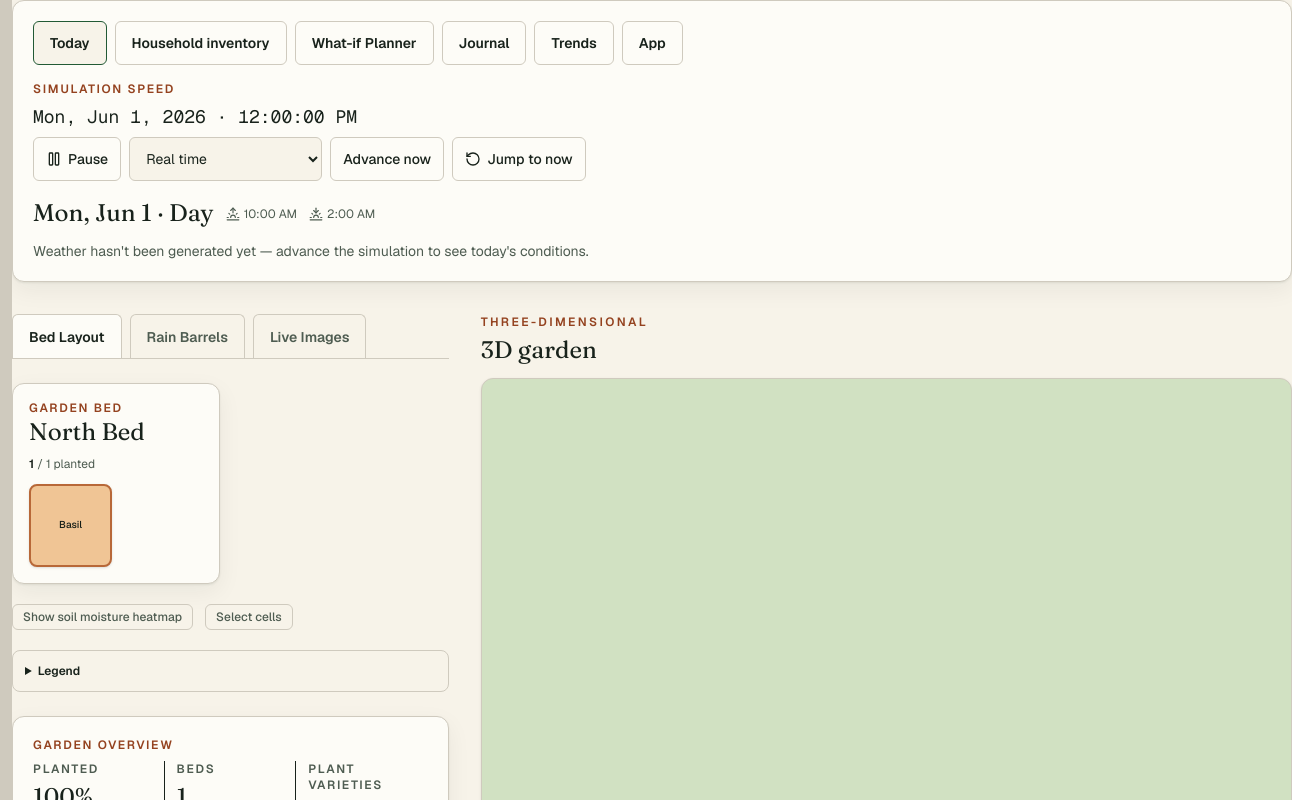
Test: SPEC-PLANTUI-001 › T-SPEC-PLANTUI-001-AC-AC_4: a HARVESTED cell offers only clear/remove actions, never a direct replace-plant action
Click the button with aria-label "column 0, row 0" at (71, 526), box [29,484,112,567]
(page scrolled)
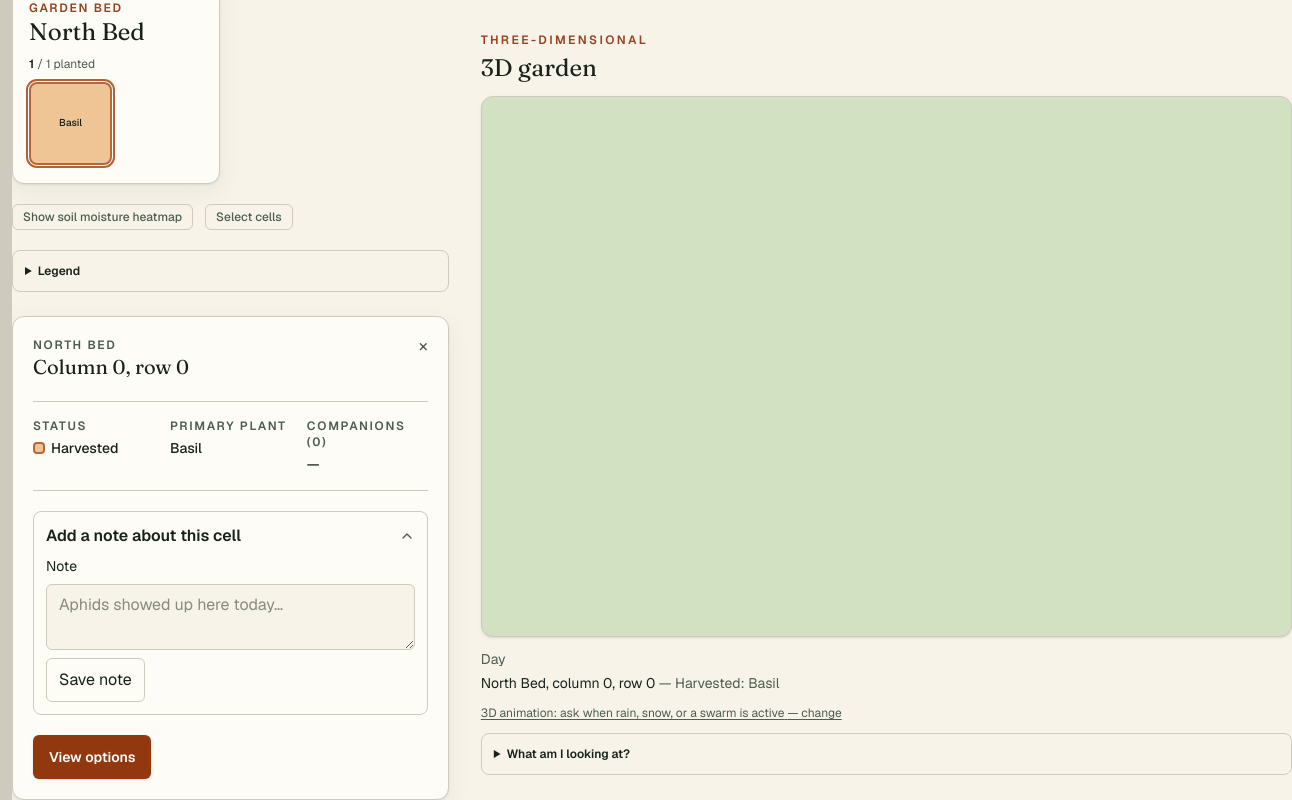
Click the button "View options" at (92, 757), box [33,735,152,779]
(page scrolled)
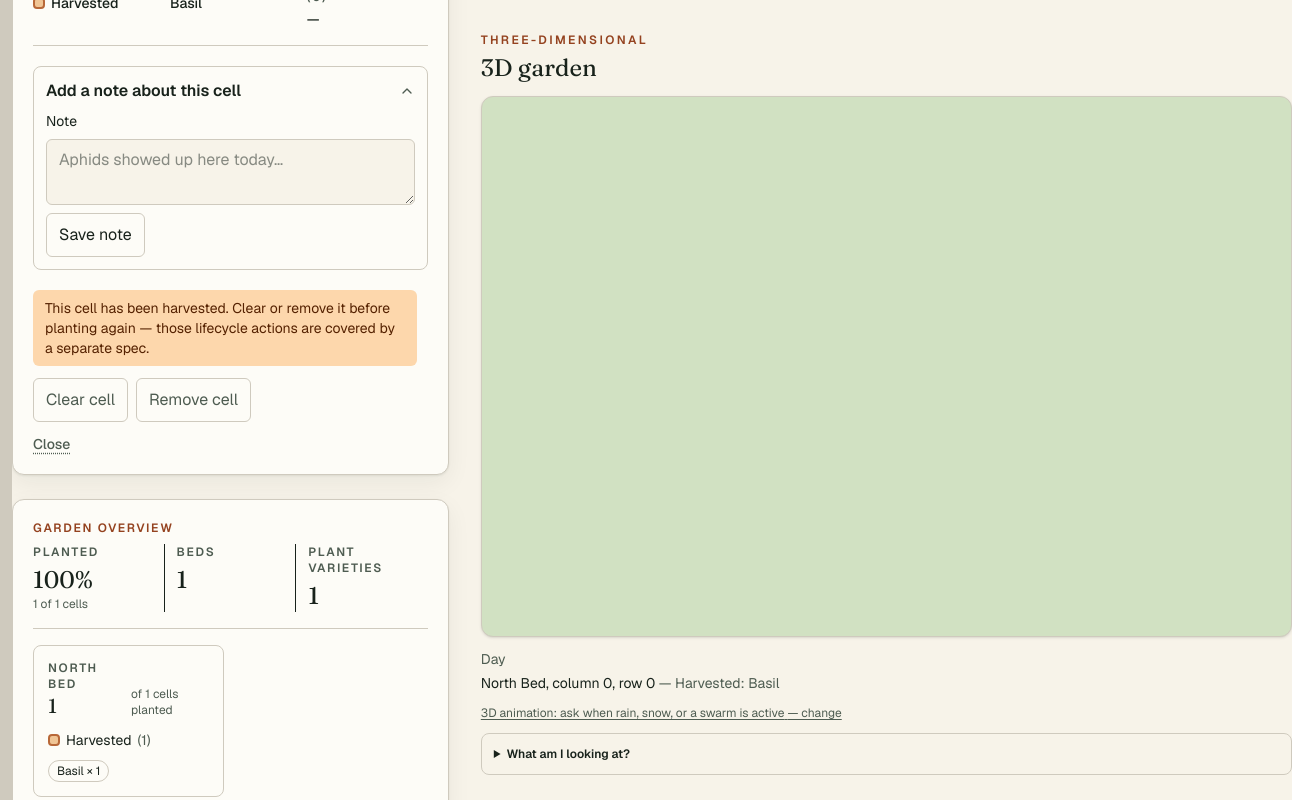
Expected: the button "Clear cell" is shown, [33,378,128,422]
Expected: the button "Remove cell" is shown, [136,378,251,422]
